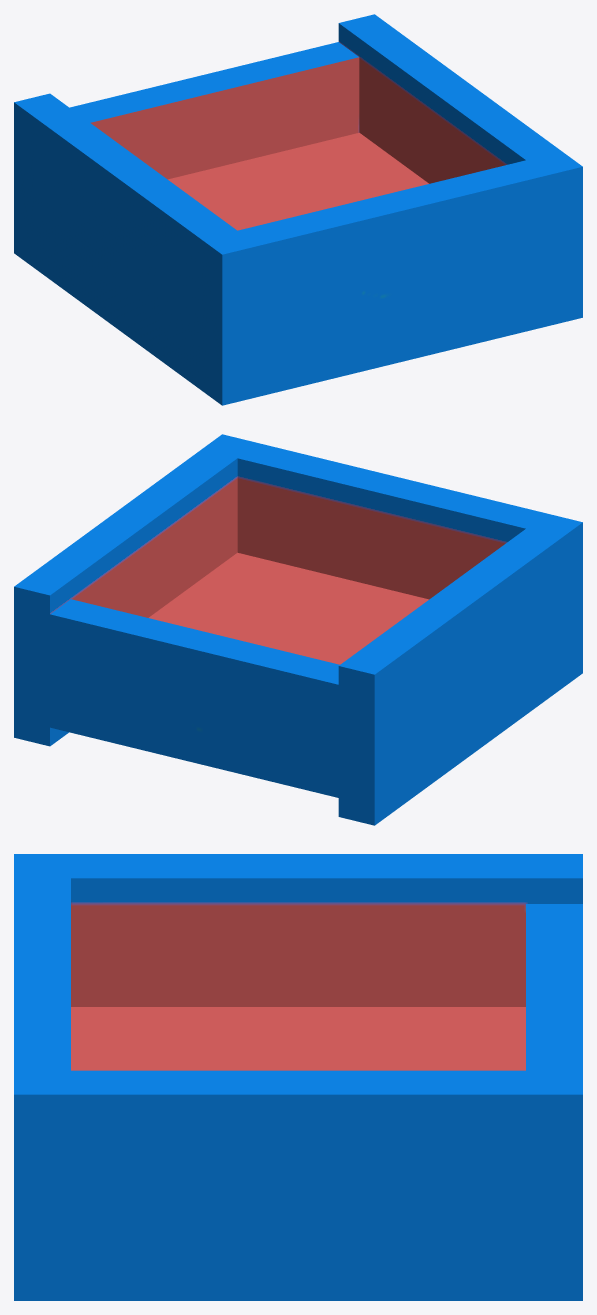
File: conveyor 4.fbx
3 renders of one model, top to bottom at view 1: azimuth 30°, elevation 25°; view 2: azimuth 150°, elevation 25°; view 3: azimuth 270°, elevation 25°, orthographic. The views are drawn at different scales.
Parts seen in each view (by area): view 1: Conveyor.005; view 2: Conveyor.005; view 3: Conveyor.005.
Part boxes in pixels (x1,y1,x2,y2): Conveyor.005: (14, 14, 582, 405); Conveyor.005: (14, 434, 582, 825); Conveyor.005: (14, 854, 582, 1300).
Size of the model in its own units: 200 by 80 by 200.
Materials: 1 (1 with a texture image).
